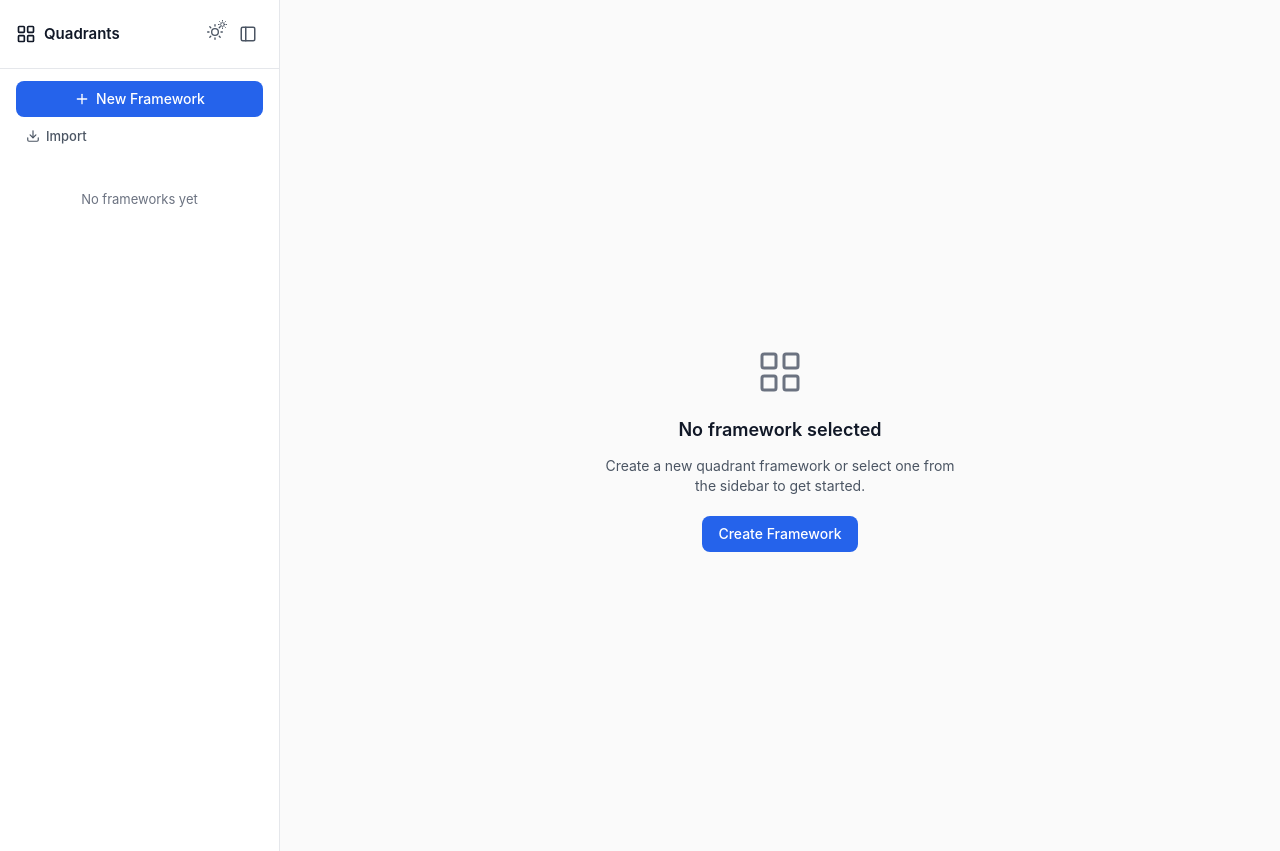
App › opens the framework builder when "Create Framework" is clicked from empty state
Click the button "Create Framework" at (780, 534), box [702, 516, 858, 552]
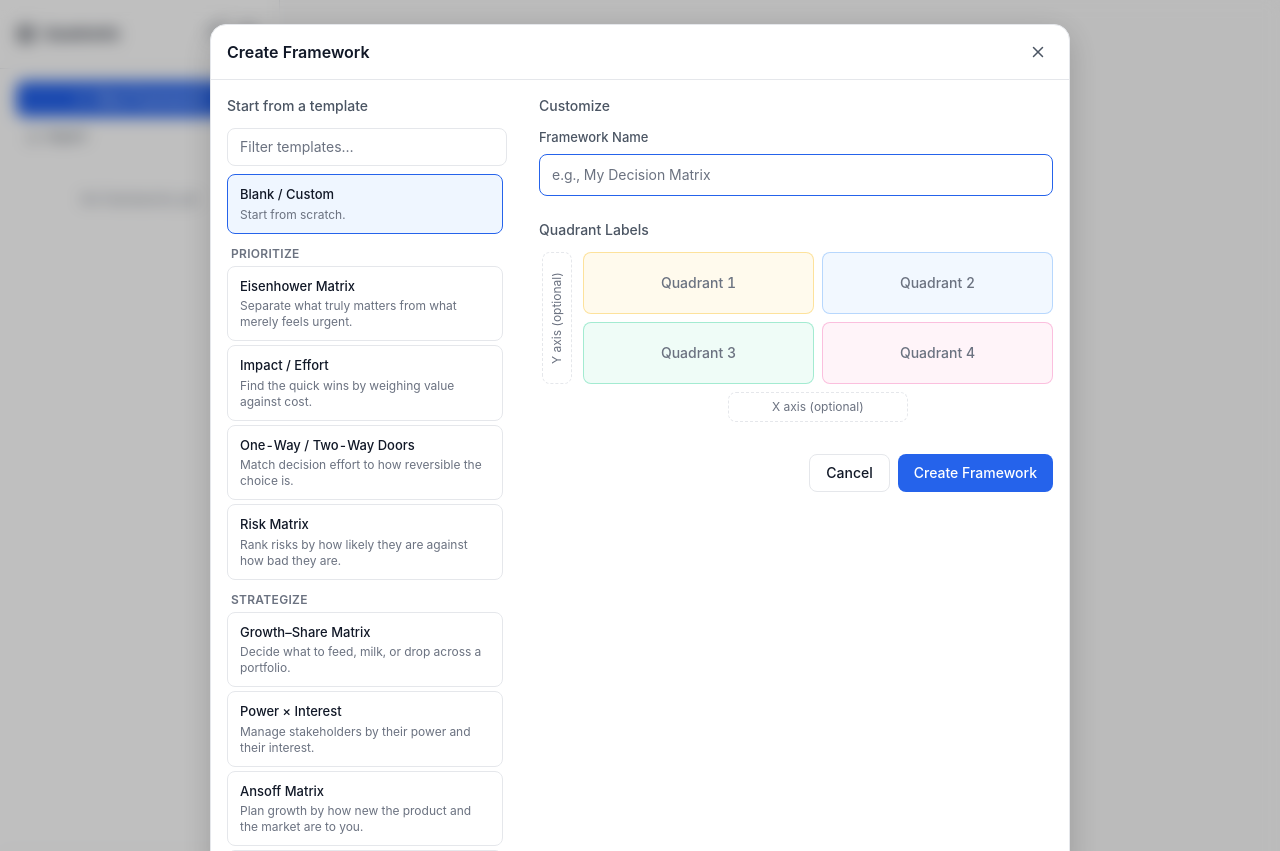
Expected: the heading "Start from a template" is shown, [227, 97, 368, 114]
